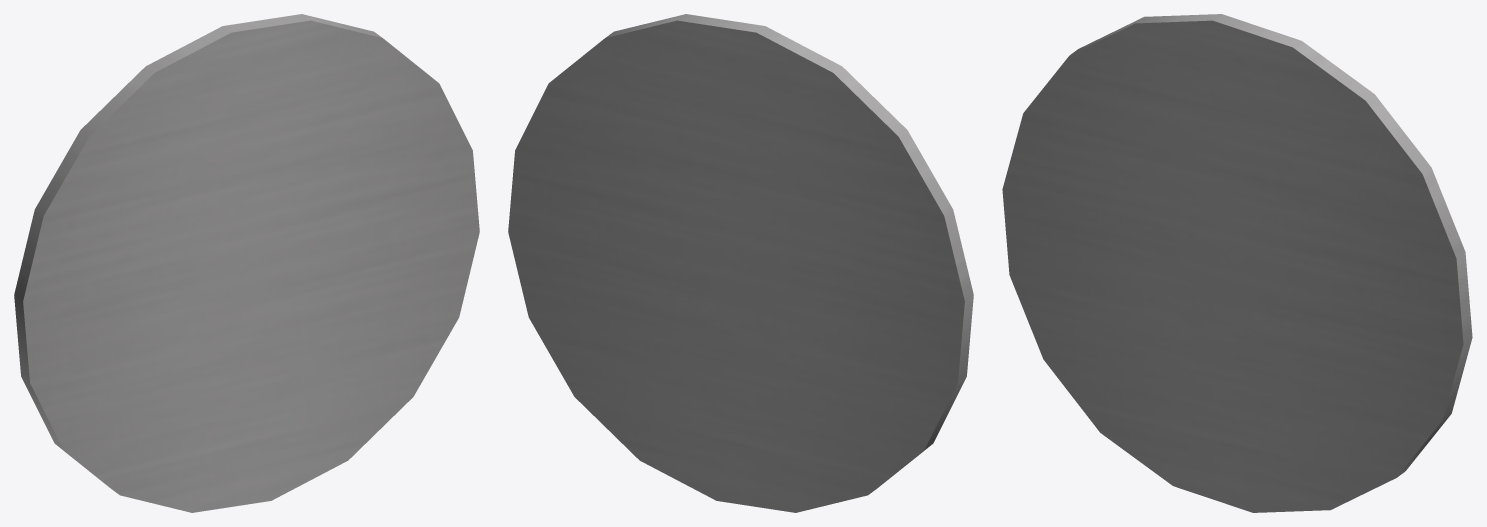
The model's file is zaag.obj.
3 views of the same model, side by side, from view 1: azimuth 30°, elevation 25°; view 2: azimuth 150°, elevation 25°; view 3: azimuth 330°, elevation 25° (orthographic).
Parts seen in each view (by area): view 1: zaag polySurface3; view 2: zaag polySurface3; view 3: zaag polySurface3.
Part boxes in pixels (bbox=[...]): zaag polySurface3: bbox=[14, 14, 479, 512]; zaag polySurface3: bbox=[508, 14, 973, 512]; zaag polySurface3: bbox=[1002, 14, 1472, 512].
Bounding box in the file's own units: 2.24 × 2.24 × 0.0761.
1 material, 1 textured.
